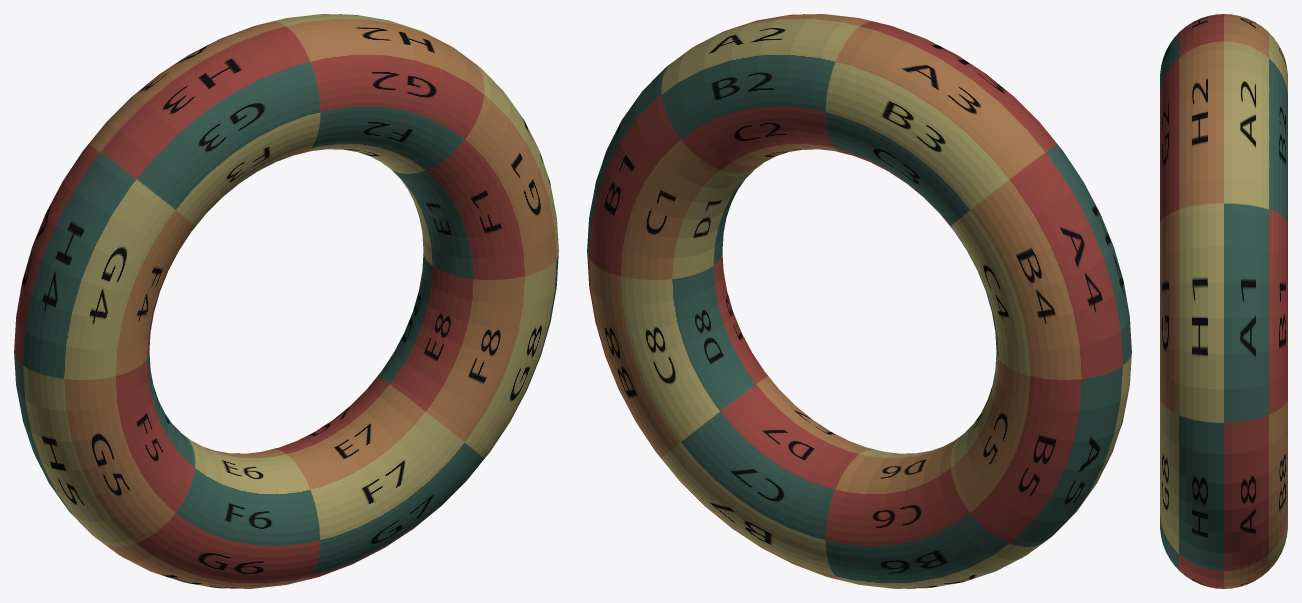
The model's file is texture_torus_R22_r19.glb.
3 views of the same model, side by side, from view 1: azimuth 30°, elevation 25°; view 2: azimuth 150°, elevation 25°; view 3: azimuth 270°, elevation 25° (orthographic). The views are drawn at different scales.
Visible parts, largest first — view 1: world; view 2: world; view 3: world.
Boxes of the visible parts, <box> form: world: <box>14,14,558,588</box>; world: <box>587,14,1131,588</box>; world: <box>1160,14,1287,588</box>.
Size of the model in its own units: 31.73 by 31.67 by 7.05.
1 material, 1 textured.
